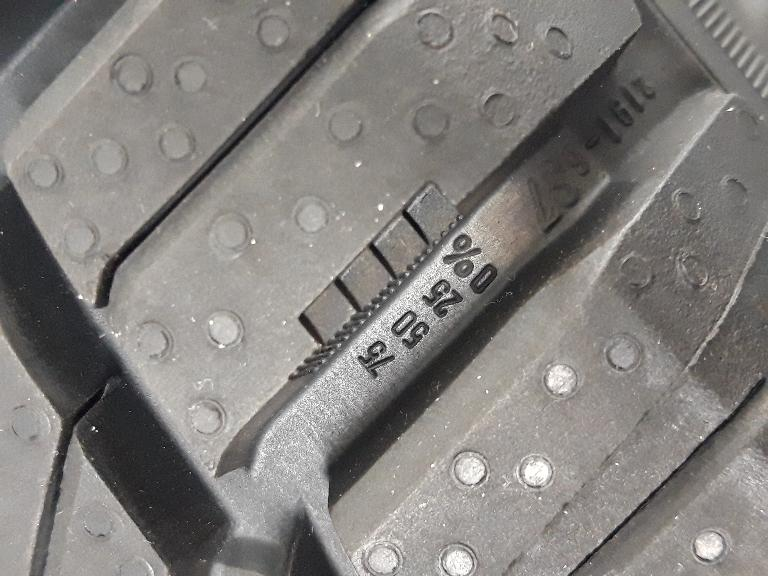temoin:100: (281, 174, 477, 396)
